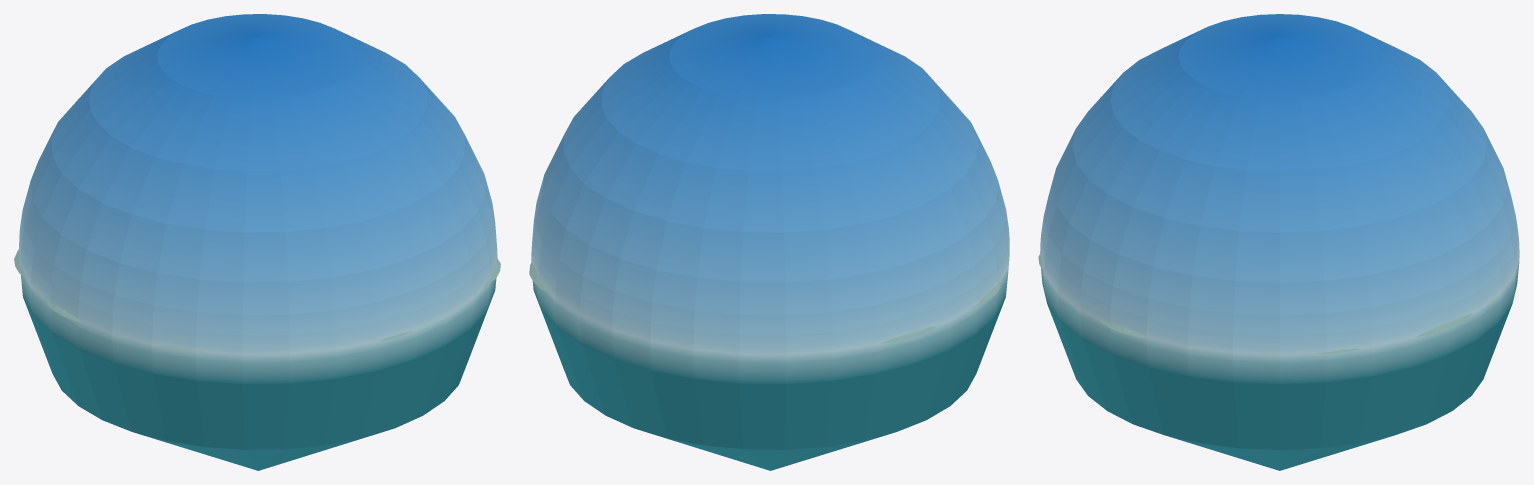
The model's file is sky-tropical.glb.
3 renders of one model, left to right at view 1: azimuth 30°, elevation 25°; view 2: azimuth 150°, elevation 25°; view 3: azimuth 270°, elevation 25°, orthographic.
Parts seen in each view (by area): view 1: dome, ring; view 2: dome, ring; view 3: dome, ring.
Part boxes in pixels (bbox=[...]): dome: bbox=[19, 14, 497, 470]; ring: bbox=[14, 249, 500, 352]; dome: bbox=[531, 14, 1009, 470]; ring: bbox=[529, 262, 1000, 343]; dome: bbox=[1040, 14, 1519, 470]; ring: bbox=[1038, 254, 1472, 353].
Bounding box in the file's own units: 18171 × 18000 × 18064.
